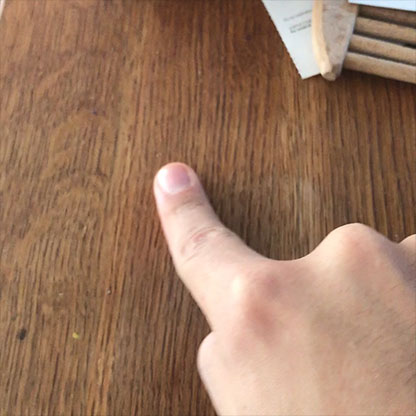fingertip: (142, 151, 215, 214)
